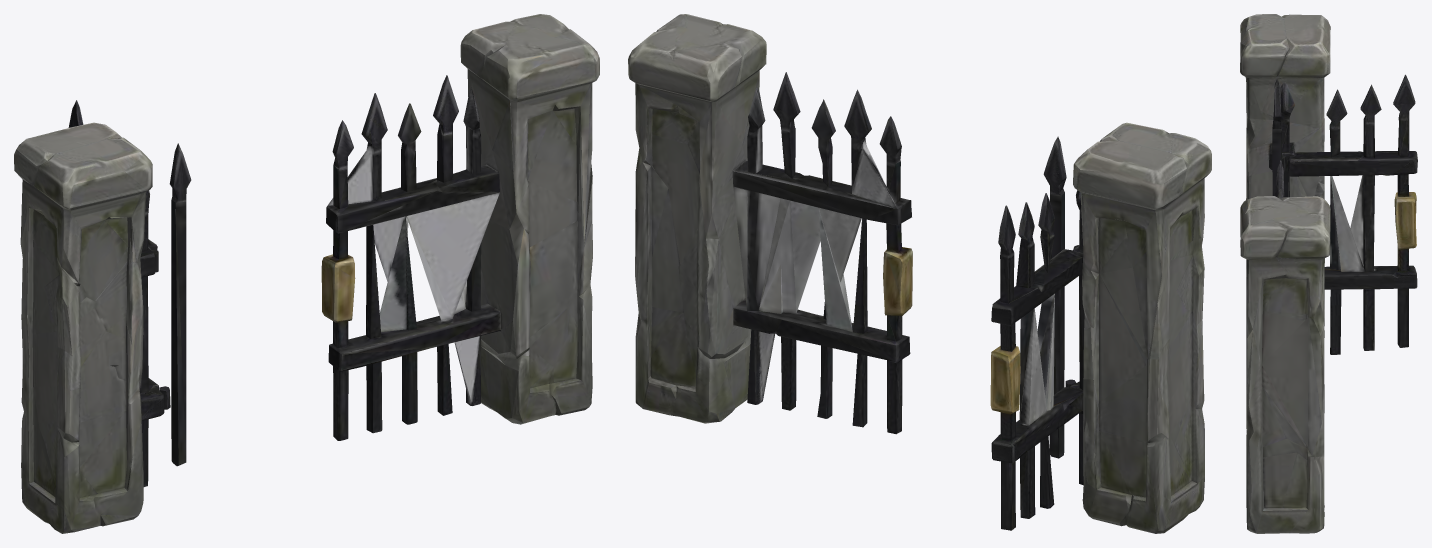
The model's file is gate_open_3d.glb.
3 views of the same model, side by side, from view 1: azimuth 30°, elevation 25°; view 2: azimuth 150°, elevation 25°; view 3: azimuth 270°, elevation 25° (orthographic). The views are drawn at different scales.
Parts seen in each view (by area): view 1: Mesh_0; view 2: Mesh_0; view 3: Mesh_0.
Part boxes in pixels (x1,y1,x2,y2): Mesh_0: (14,14,599,533); Mesh_0: (628,14,1211,533); Mesh_0: (1240,14,1417,533).
Size of the model in its own units: 1.25 by 0.8153 by 0.4281.
1 material, 1 textured.
